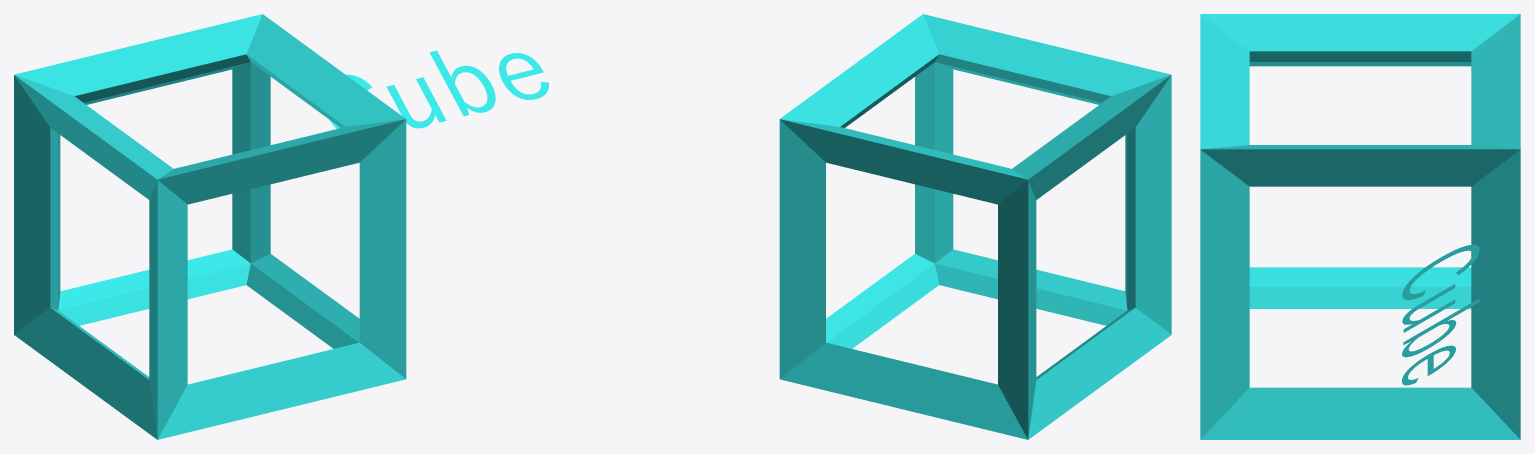
Rendered from cubeflattext.gltf.
The picture shows the model from 3 angles, left to right: view 1: azimuth 30°, elevation 25°; view 2: azimuth 150°, elevation 25°; view 3: azimuth 270°, elevation 25°; orthographic projection. The views are drawn at different scales.
Visible parts, largest first — view 1: Cube, Text; view 2: Cube; view 3: Cube, Text.
Boxes of the visible parts, x1=… form: Cube: x1=14, y1=14, x2=406, y2=439; Text: x1=330, y1=50, x2=548, y2=128; Cube: x1=779, y1=14, x2=1171, y2=439; Cube: x1=1200, y1=14, x2=1520, y2=439; Text: x1=1402, y1=244, x2=1479, y2=385.
Size of the model in its own units: 332 by 169 by 169.
